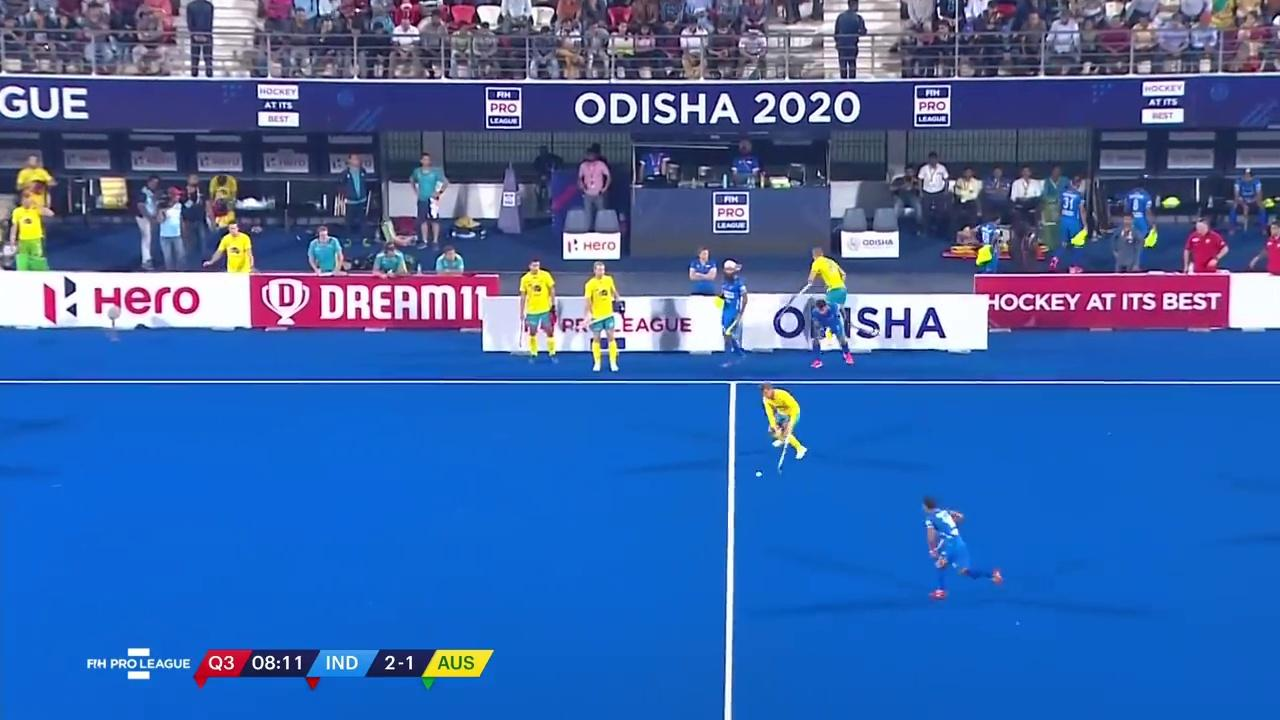ball: (751, 469, 766, 479)
